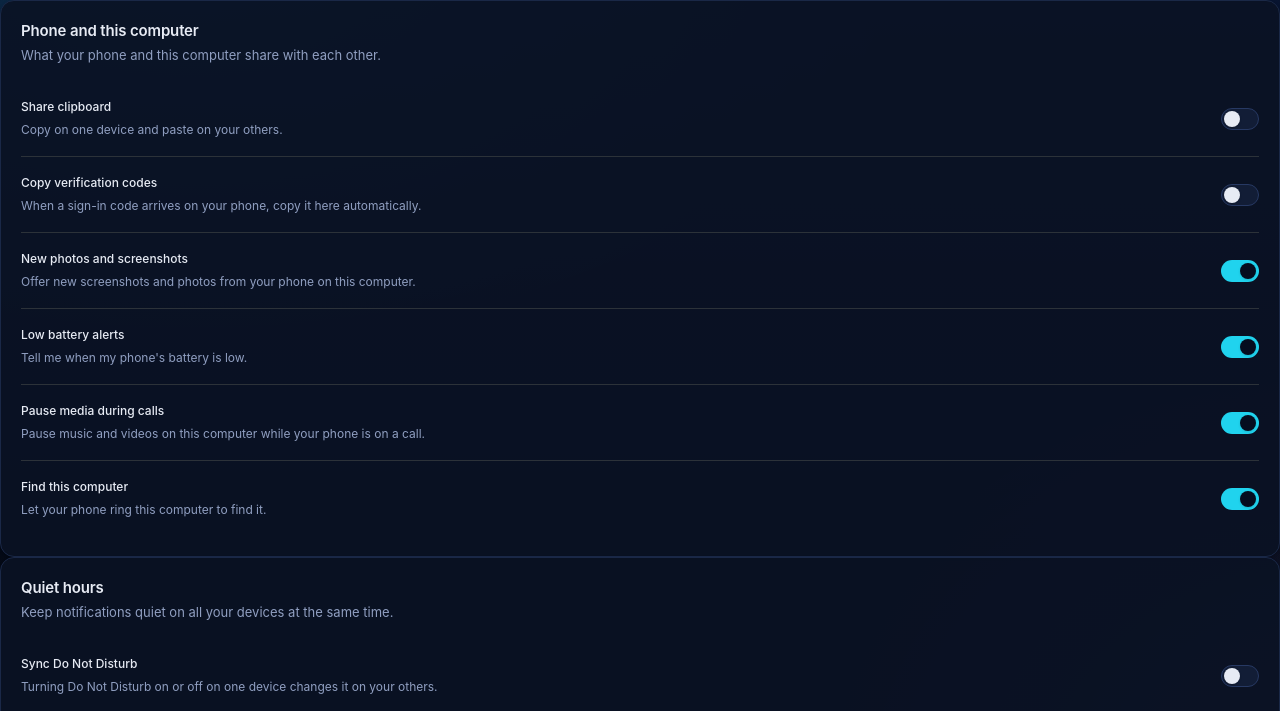
Test: Connections preferences › explains a switch that could not be saved next to it
The width and height of the screenshot is (1280, 711).
Click the switch named "Low battery alerts" at (1240, 347), box left=1221, top=336, right=1259, bottom=358
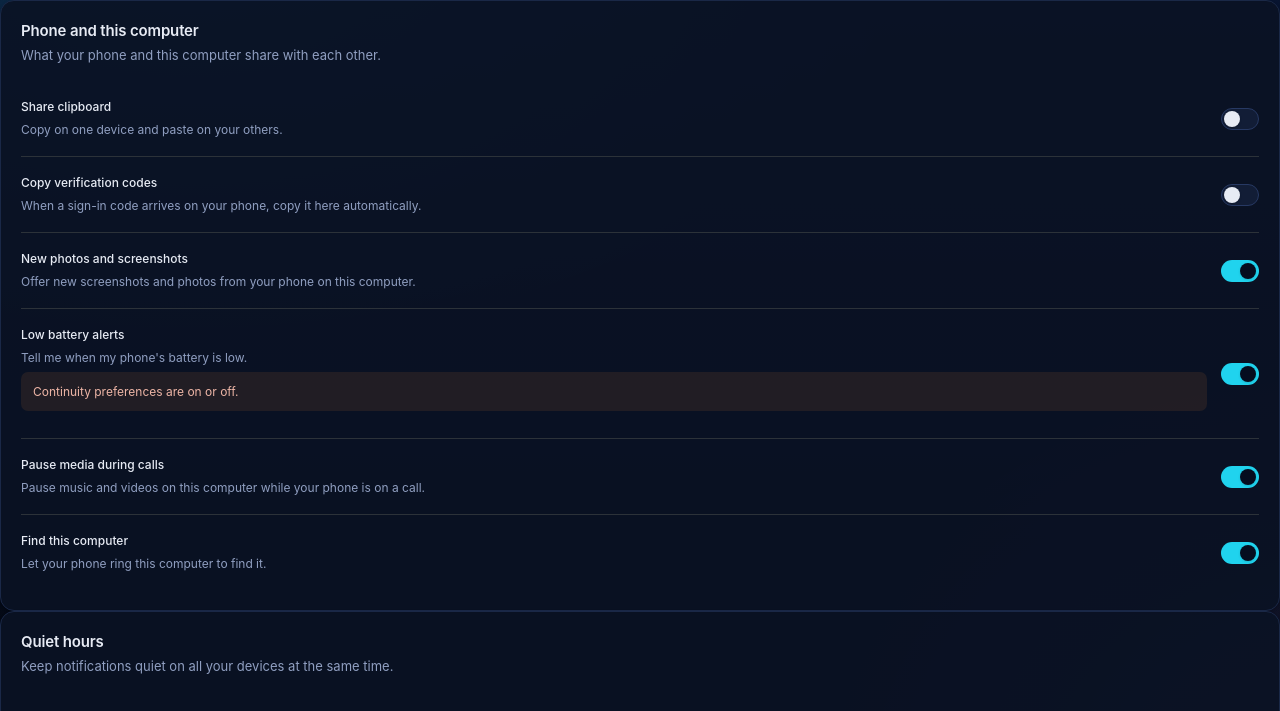
expect the switch named "Low battery alerts" is enabled: met, box left=1221, top=363, right=1259, bottom=385
expect the message reads "Continuity preferences are on or off.": met, box left=33, top=384, right=238, bottom=399
